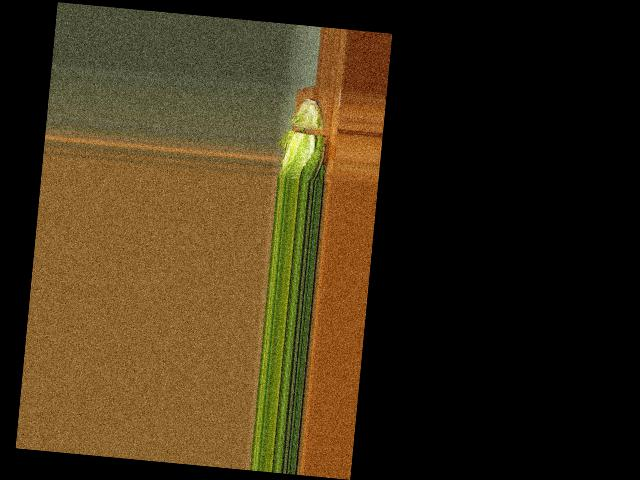lettuce: (276, 97, 334, 181)
